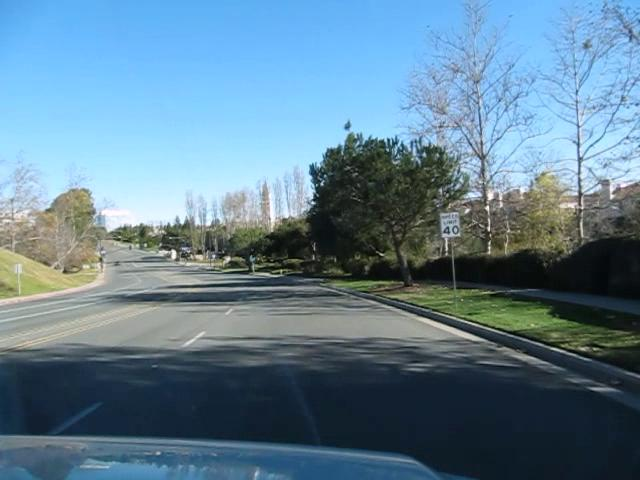speedLimit40: (439, 210, 461, 238)
